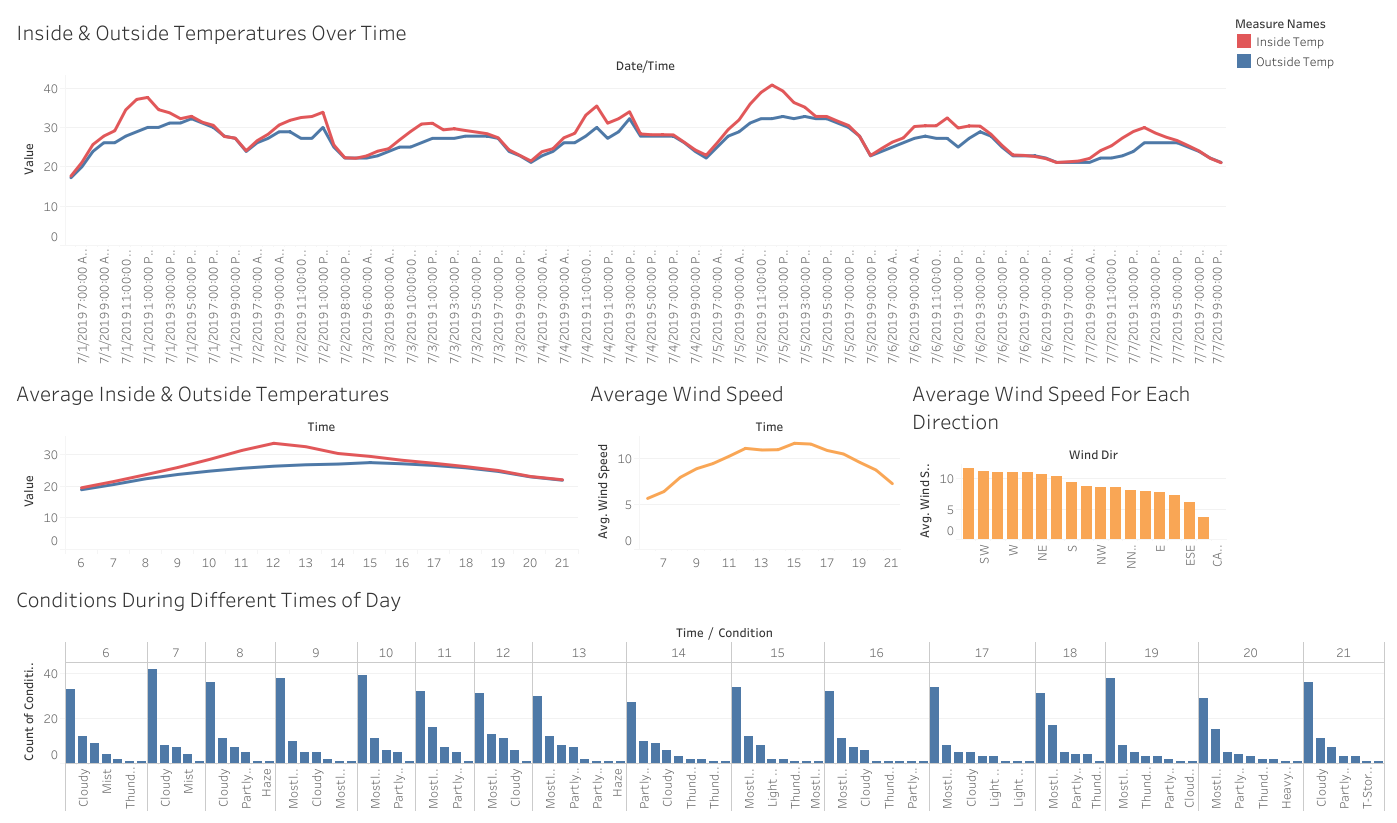

The page's visual inventory and layout, read from the dashboard file:
{"tool":"tableau","page":{"name":"Dashboard 1","canvas":[1000,1000],"units":"permille","ordinal":0},"visuals":[{"type":"worksheet","box":[0,0,1000,1000]},{"type":"worksheet","param":"horz","box":[4.9,9.3,990.3,688.4]},{"type":"worksheet","box":[4.9,9.3,893.3,688.4]},{"type":"worksheet","title":"Sheet 1","mark":"Line","cols":["Date/Time"],"box":[4.9,9.3,893.3,438.4]},{"type":"worksheet","param":"vert","box":[898.2,9.3,97,688.4]},{"type":"worksheet","title":"Sheet 1","mark":"Line","cols":["Date/Time"],"param":"[federated.11ct4hv0zflnaw11mm8nr14k2mbv].[:Measure Names]","box":[898.2,9.3,97,76.7]},{"type":"worksheet","title":"Sheet 2","mark":"Automatic","cols":["Time"],"box":[4.9,447.7,419.4,250]},{"type":"worksheet","title":"Sheet 3","mark":"Automatic","rows":["Wind Speed"],"cols":["Time"],"box":[424.2,447.7,235.8,250]},{"type":"worksheet","title":"Sheet 4","mark":"Automatic","rows":["Wind Speed"],"cols":["Wind Dir"],"box":[660,447.7,238.2,250]},{"type":"worksheet","title":"Sheet 5","mark":"Automatic","rows":["Condition"],"cols":["Time","Condition"],"box":[4.9,697.7,990.3,293]}]}

Visuals, with their boxes on the dashboard's canvas, which has no fixed pixel size, in thousandths of its width and height (x1, y1, x2, y2). These are canvas units, not pixel positions in the 1397x823 screenshot, which may show the page scaled, cropped or inside an application window:
worksheet: x1=0 y1=0 x2=1000 y2=1000
worksheet: x1=5 y1=9 x2=995 y2=698
worksheet: x1=5 y1=9 x2=898 y2=698
"Sheet 1" worksheet (Line marks): x1=5 y1=9 x2=898 y2=448
worksheet: x1=898 y1=9 x2=995 y2=698
"Sheet 1" worksheet (Line marks): x1=898 y1=9 x2=995 y2=86
"Sheet 2" worksheet: x1=5 y1=448 x2=424 y2=698
"Sheet 3" worksheet: x1=424 y1=448 x2=660 y2=698
"Sheet 4" worksheet: x1=660 y1=448 x2=898 y2=698
"Sheet 5" worksheet: x1=5 y1=698 x2=995 y2=991
